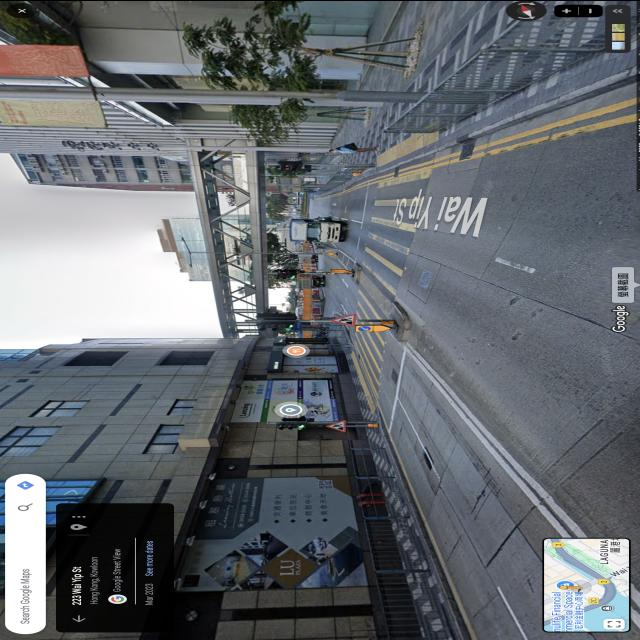Order-Sign: (358, 325, 371, 331)
Warning-Sign: (330, 313, 355, 326), (326, 419, 346, 432)
